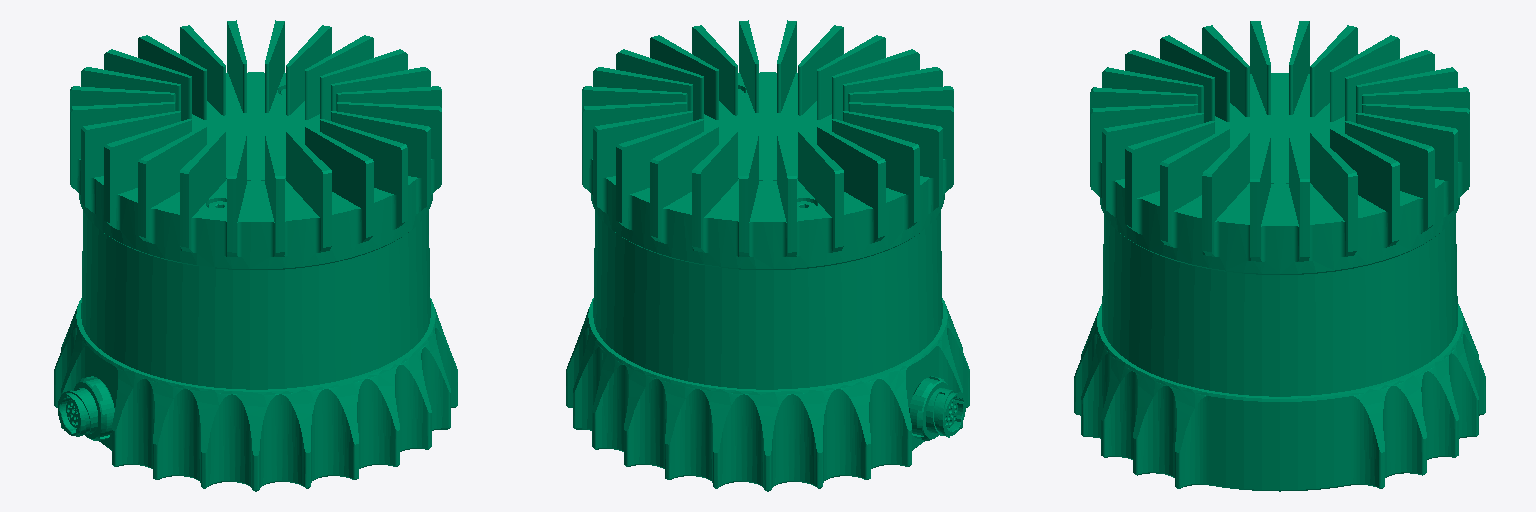
URDF robot description (LD90):
<?xml version="1.0" ?>
<!-- =================================================================================== -->
<!-- |    This document was autogenerated by xacro from [local-path]/Omron_AMR_ROS2/src/amr_visualisation/urdf/AMR_Platform.urdf.xacro | -->
<!-- |    EDITING THIS FILE BY HAND IS NOT RECOMMENDED                                 | -->
<!-- =================================================================================== -->
<robot name="LD90">
  <material name="blue">
    <color rgba="0 0 0.8 1"/>
  </material>
  <material name="black">
    <color rgba="0 0 0 1"/>
  </material>
  <material name="white">
    <color rgba="1 1 1 1"/>
  </material>
  <link name="base_link">
  </link>
  <link name="main_body">
    <visual>
      <origin rpy="0 0 1.5707963267949" xyz="0 0 0.244"/>
      <geometry>
        <mesh filename="package://amr_visualisation/meshes/LD90.obj"/>
      </geometry>
      <material name="white"/>
    </visual>
    <collision>
      <origin rpy="0 0 1.5707963267949" xyz="0 0 0"/>
      <geometry>
        <mesh filename="package://amr_visualisation/meshes/LD90.obj"/>
      </geometry>
    </collision>
    <inertial>
      <mass value="4.07"/>
      <inertia ixx="0.426" ixy="0.0" ixz="0.0" iyy="0.496" iyz="0.0" izz="0.91"/>
    </inertial>
  </link>
  <joint name="main_body_to_base" type="fixed">
    <parent link="base_link"/>
    <child link="main_body"/>
    <origin xyz="0 0 0"/>
  </joint>

  <link name="camera">
    <visual>
      <origin rpy="1.5707963267949 0 1.5707963267949" xyz="0 0 0"/>
      <geometry>
        <mesh scale="0.001 0.001 0.001" filename="package://amr_visualisation/meshes/Ouster.obj"/>
      </geometry>
    </visual>
  </link>

  <joint name="main_body_to_camera" type="fixed">
    <parent link="main_body"/>
    <child link="camera"/>
    <origin rpy="0 0 0" xyz="0.35 0 0.8"/>
  </joint>
</robot>

--- Facts derived from the render (not from the file) ---
Views: 3 orthographic renders of the robot side by side, from view 1: azimuth 30°, elevation 25°; view 2: azimuth 150°, elevation 25°; view 3: azimuth 270°, elevation 25°.
Robot: LD90 — 3 links, 2 joints (2 fixed); root link base_link; default pose: all joints at 0.
Visible links, largest first — view 1: camera; view 2: camera; view 3: camera.
Link boxes in pixels (<box>): camera: <box>54,20,457,491</box>; camera: <box>566,20,969,491</box>; camera: <box>1074,21,1485,491</box>.
Size in the robot's own frame: 0.0867 by 0.087 by 0.0735 metres.
1 mesh visuals loaded from 2 distinct referenced files (1 OBJ); not drawn: 1 (reference not matched to a file when rendering).